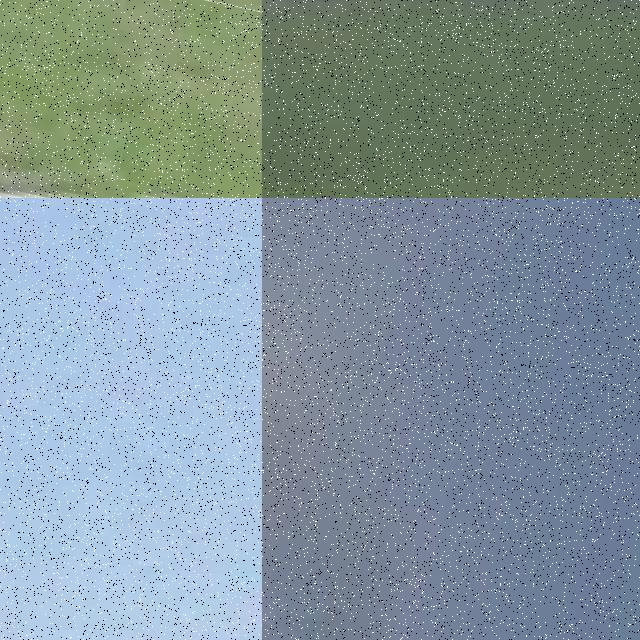0: (262, 198, 640, 640)
drone: (0, 0, 262, 198)
